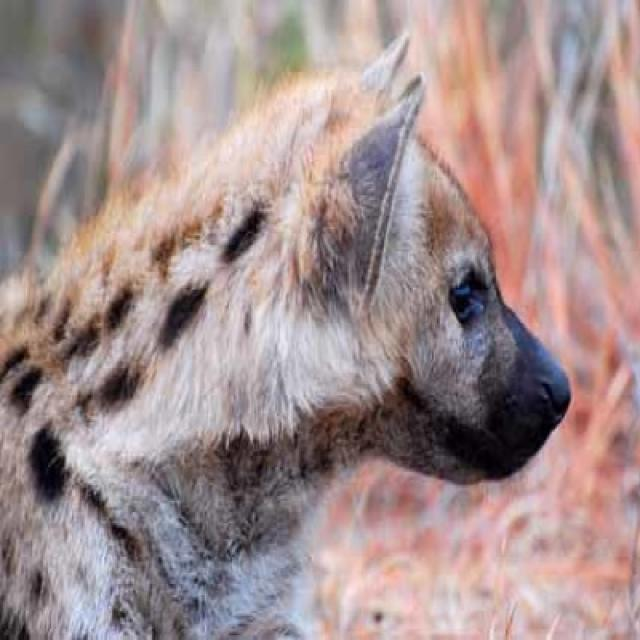hyena: (0, 35, 573, 638)
